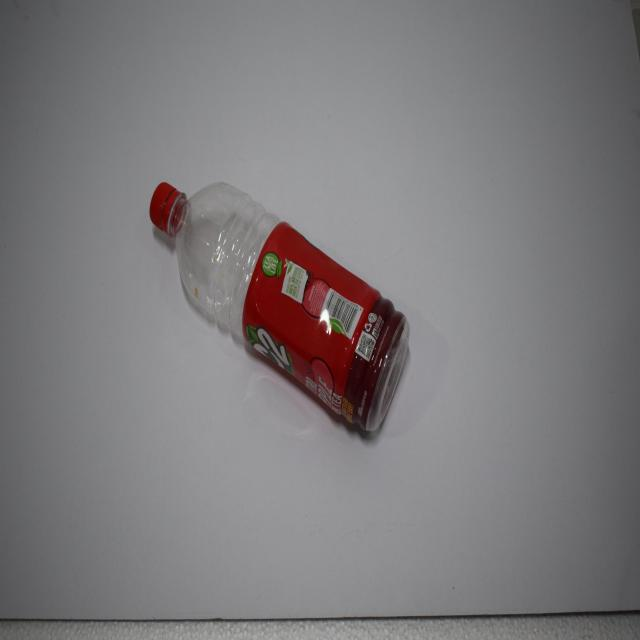bottle: (134, 156, 426, 465)
